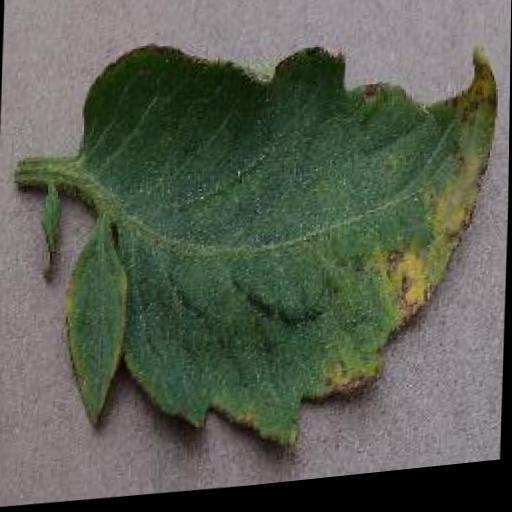Bacterial Spot: (0, 6, 508, 493)
